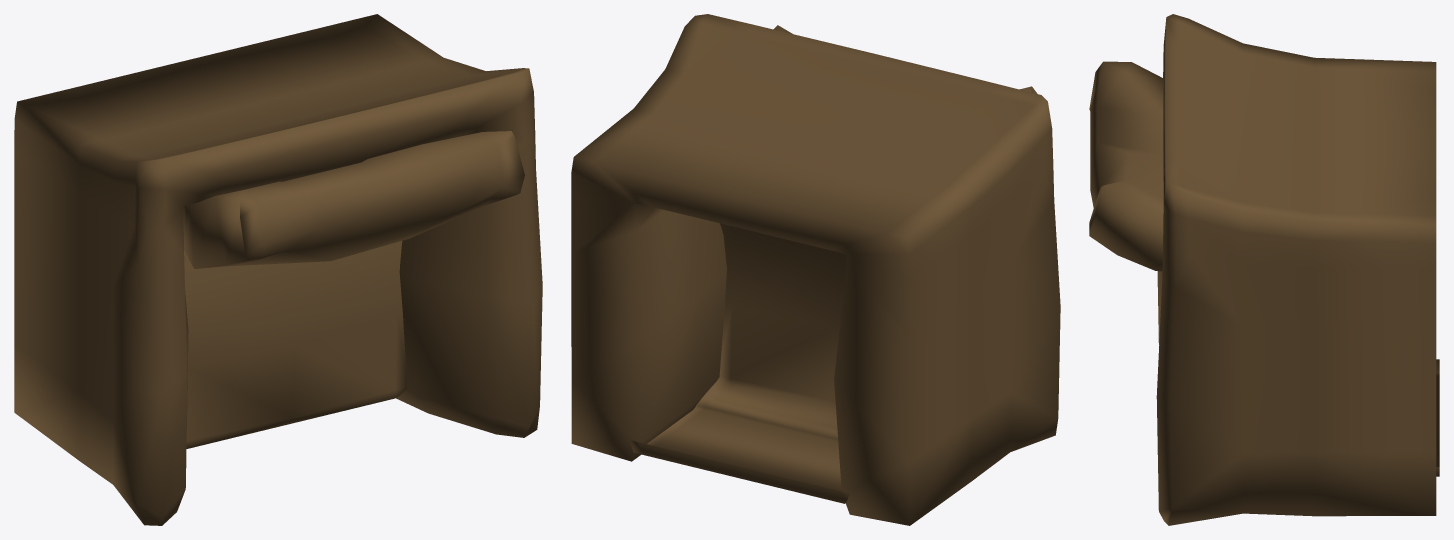
The model's file is MeshArmchair_216_0.obj.
The picture shows the model from 3 angles, left to right: view 1: azimuth 30°, elevation 25°; view 2: azimuth 150°, elevation 25°; view 3: azimuth 270°, elevation 25°; orthographic projection. The views are drawn at different scales.
Parts seen in each view (by area): view 1: Armchair_216; view 2: Armchair_216; view 3: Armchair_216.
Part boxes in pixels (x1,y1,x2,y2): Armchair_216: (14,14,542,525); Armchair_216: (571,14,1060,525); Armchair_216: (1089,14,1439,525).
Size of the model in its own units: 1.21 by 1.04 by 0.9679.
